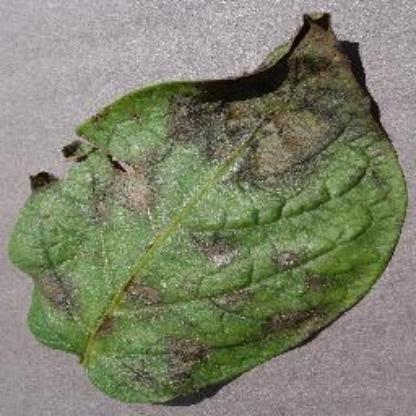Late-Blight: (12, 10, 404, 408)
